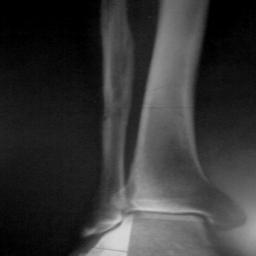cancer: (103, 10, 138, 126)
